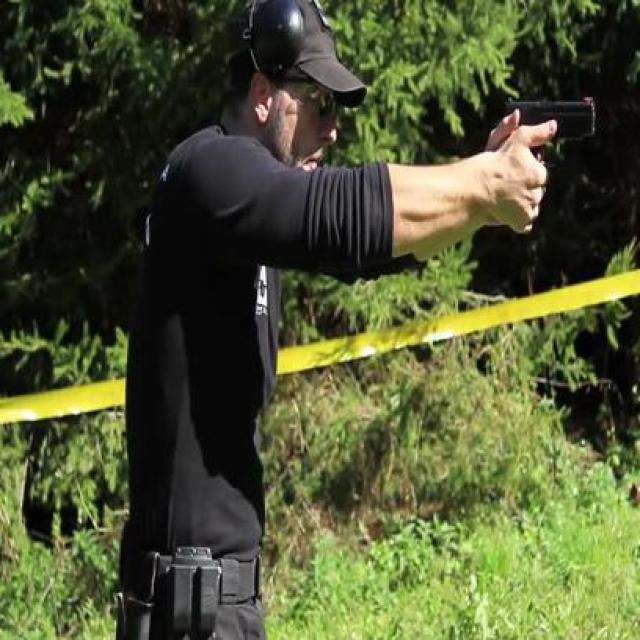Gun: (484, 94, 600, 224)
